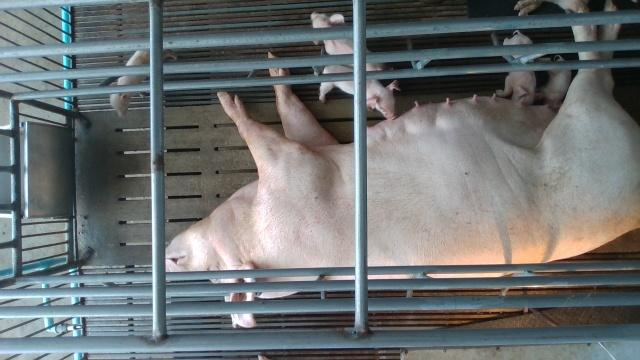piglet: (310, 9, 392, 70), (318, 65, 402, 122), (108, 50, 176, 118), (498, 29, 537, 104), (538, 54, 572, 112)
sow-sleep-lactate: (166, 0, 640, 327)
